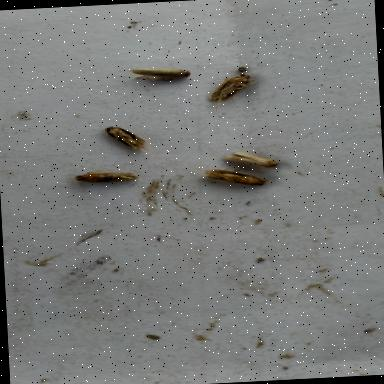pbw: (189, 163, 269, 193), (103, 124, 153, 156), (204, 74, 252, 104), (129, 62, 191, 84), (220, 151, 278, 171), (70, 168, 134, 184)
